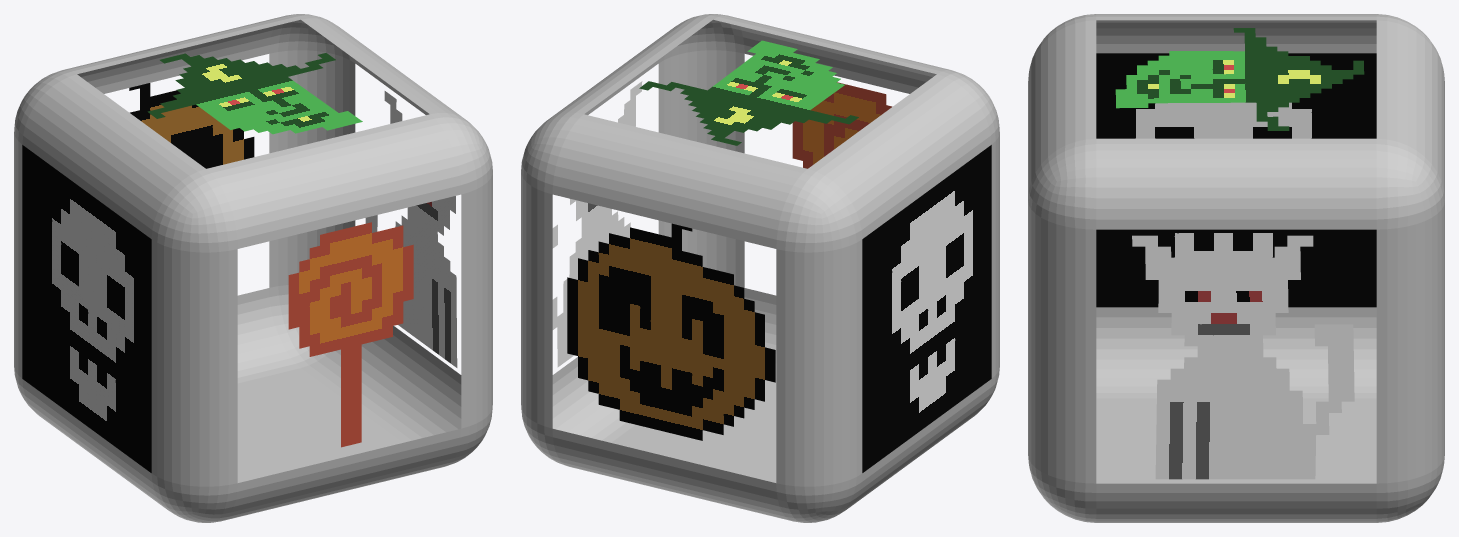
The model's file is HalloweenDie.fbx.
The picture shows the model from 3 angles, left to right: view 1: azimuth 30°, elevation 25°; view 2: azimuth 150°, elevation 25°; view 3: azimuth 270°, elevation 25°; orthographic projection. The views are drawn at different scales.
Visible parts, largest first — view 1: Cube; view 2: Cube; view 3: Cube.
Part boxes in pixels (x1=…): Cube: x1=14, y1=14, x2=492, y2=522; Cube: x1=521, y1=14, x2=999, y2=522; Cube: x1=1028, y1=14, x2=1444, y2=522.
Bounding box in the file's own units: 200 × 200 × 200.
